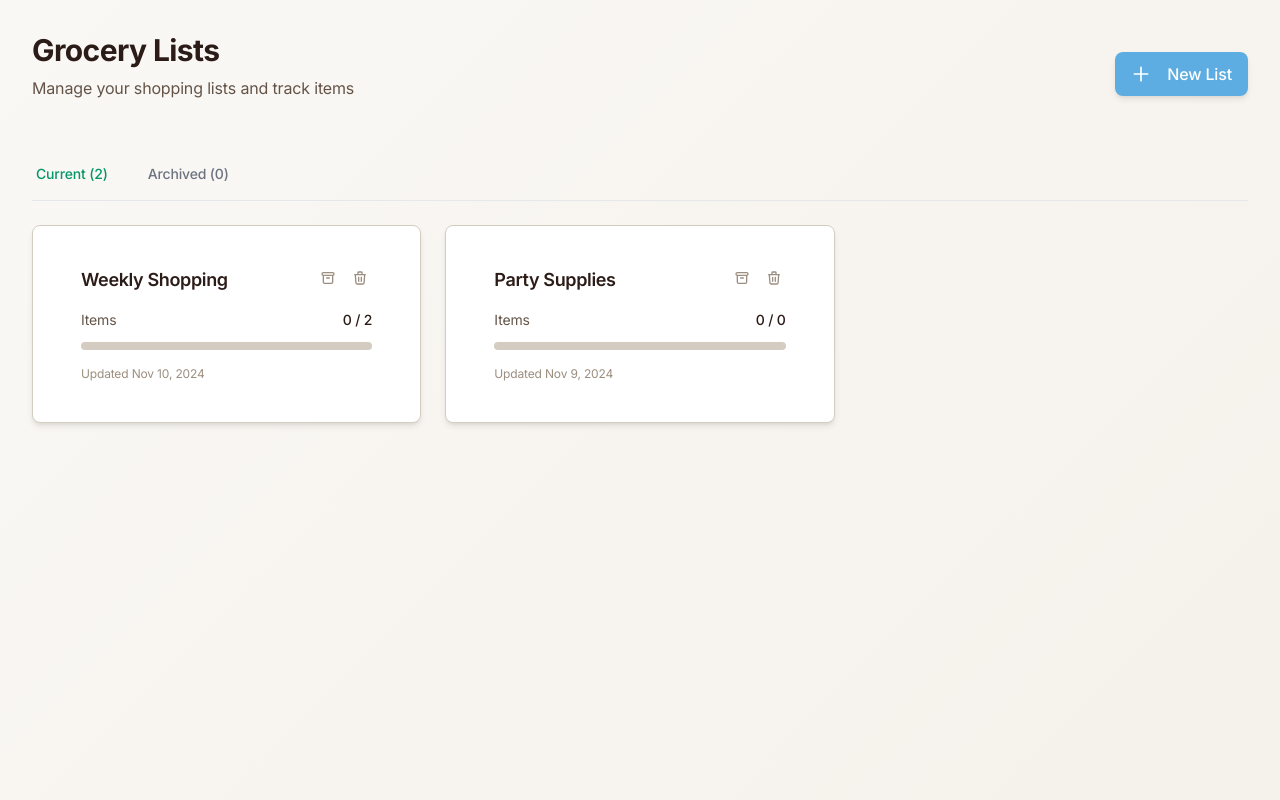
GroceryListsPage › Delete functionality › should open confirmation modal when delete button is clicked
Expected: the heading "Grocery Lists" is shown, 32,32 -> 219,68
Expected: the heading "Weekly Shopping" is shown, 81,269 -> 228,290
Click the button named "delete list" at [360, 278], box 348,266 -> 372,290
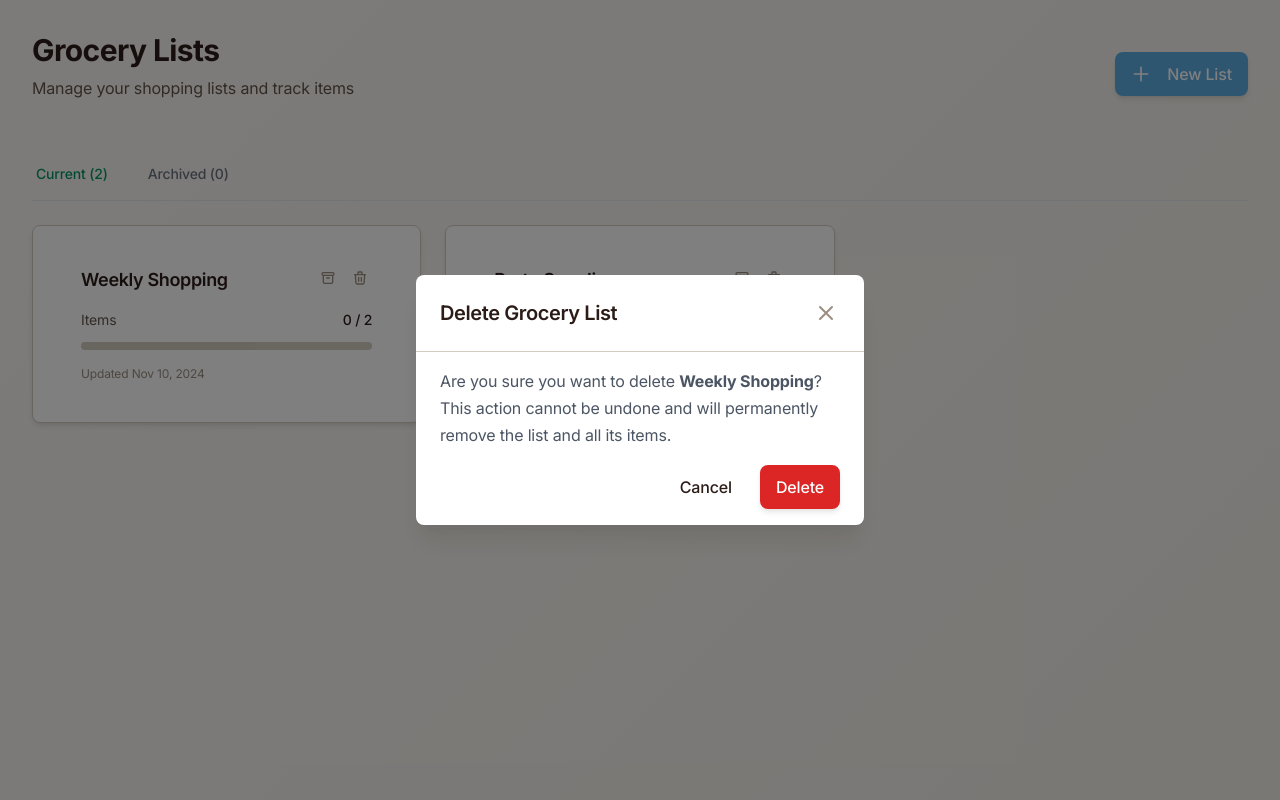
Result: the heading "Delete Grocery List" is shown at 440,299 -> 617,327
Result: the text "Are you sure you want to delete" is shown at 440,371 -> 675,391
Result: the dialog shows "Weekly Shopping" at 679,371 -> 814,391
